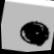correct: (12, 15, 54, 53)
